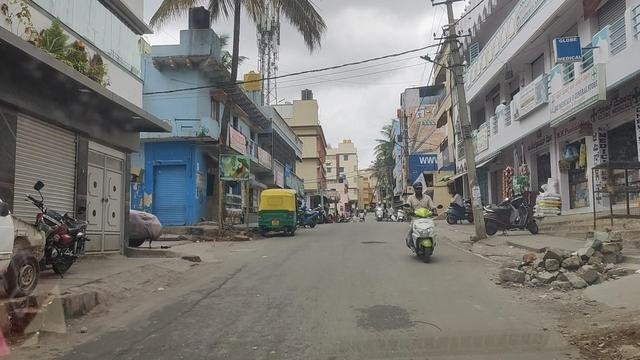LMV: (409, 181, 440, 255)
RoadDamages: (400, 316, 449, 342), (357, 236, 385, 247)
